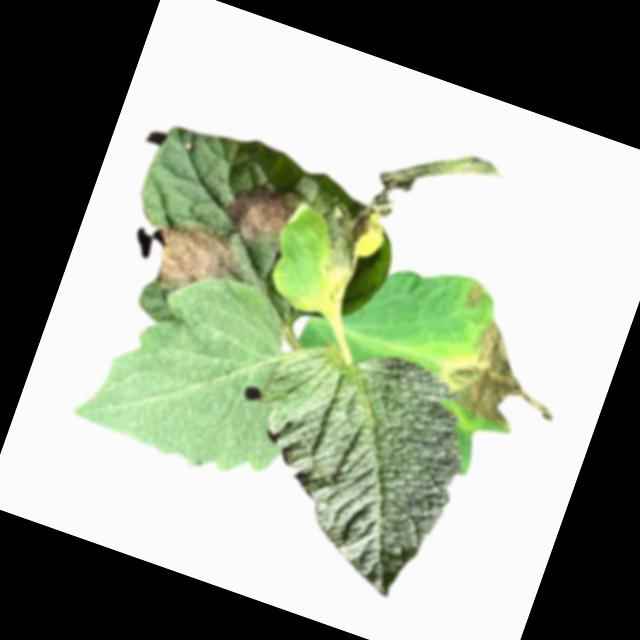Late_blight: (302, 115, 509, 335), (433, 311, 577, 444), (136, 212, 250, 318), (210, 168, 309, 260), (459, 278, 492, 315)
healthy: (213, 319, 489, 608)
